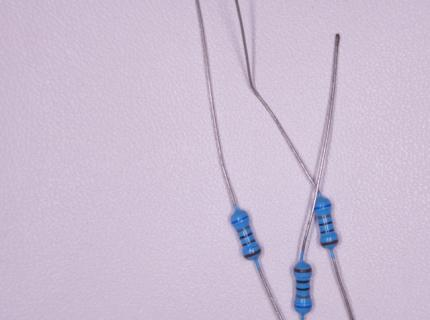Black band: (239, 232, 253, 240), (242, 239, 256, 247), (318, 221, 333, 226), (320, 229, 335, 234), (296, 280, 310, 284), (296, 287, 310, 291)
Blue band: (231, 216, 249, 224), (315, 203, 332, 210), (294, 304, 312, 309)
Brown band: (244, 249, 262, 259), (321, 239, 339, 246), (294, 268, 312, 273)
Grey band: (235, 226, 251, 233), (317, 213, 332, 219), (296, 294, 311, 299)
